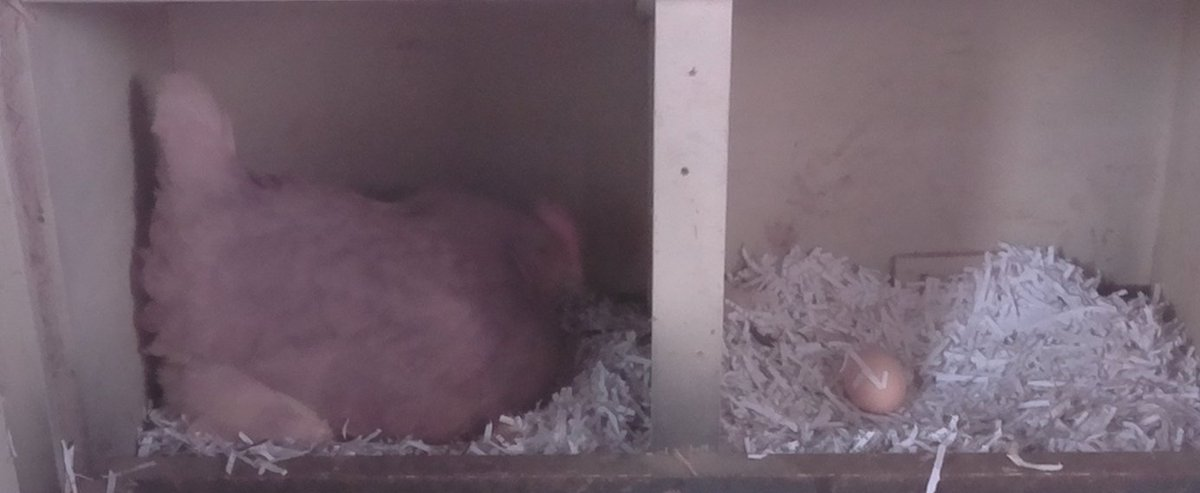egg: (843, 342, 912, 419)
hen: (126, 62, 593, 448)
